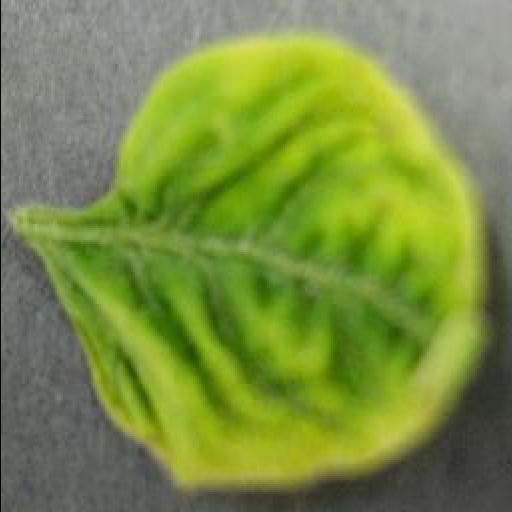disease_tomato: (40, 35, 488, 495)
